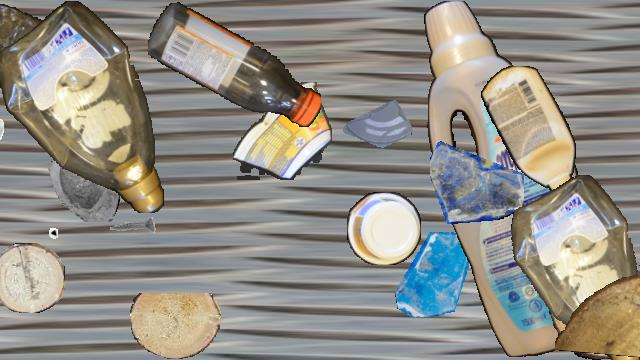glass: (430, 130, 524, 224), (33, 132, 123, 222), (393, 232, 477, 316), (343, 93, 411, 161)
metal: (545, 150, 607, 212), (105, 204, 157, 256), (8, 199, 58, 249), (0, 107, 7, 155)
plastic: (422, 1, 626, 357), (0, 1, 165, 213), (506, 175, 640, 359), (148, 1, 320, 129), (481, 66, 575, 194), (233, 82, 331, 180), (347, 192, 421, 264), (0, 1, 62, 71)
wood: (547, 253, 623, 359), (555, 265, 640, 359), (130, 293, 220, 359), (0, 243, 65, 313)
